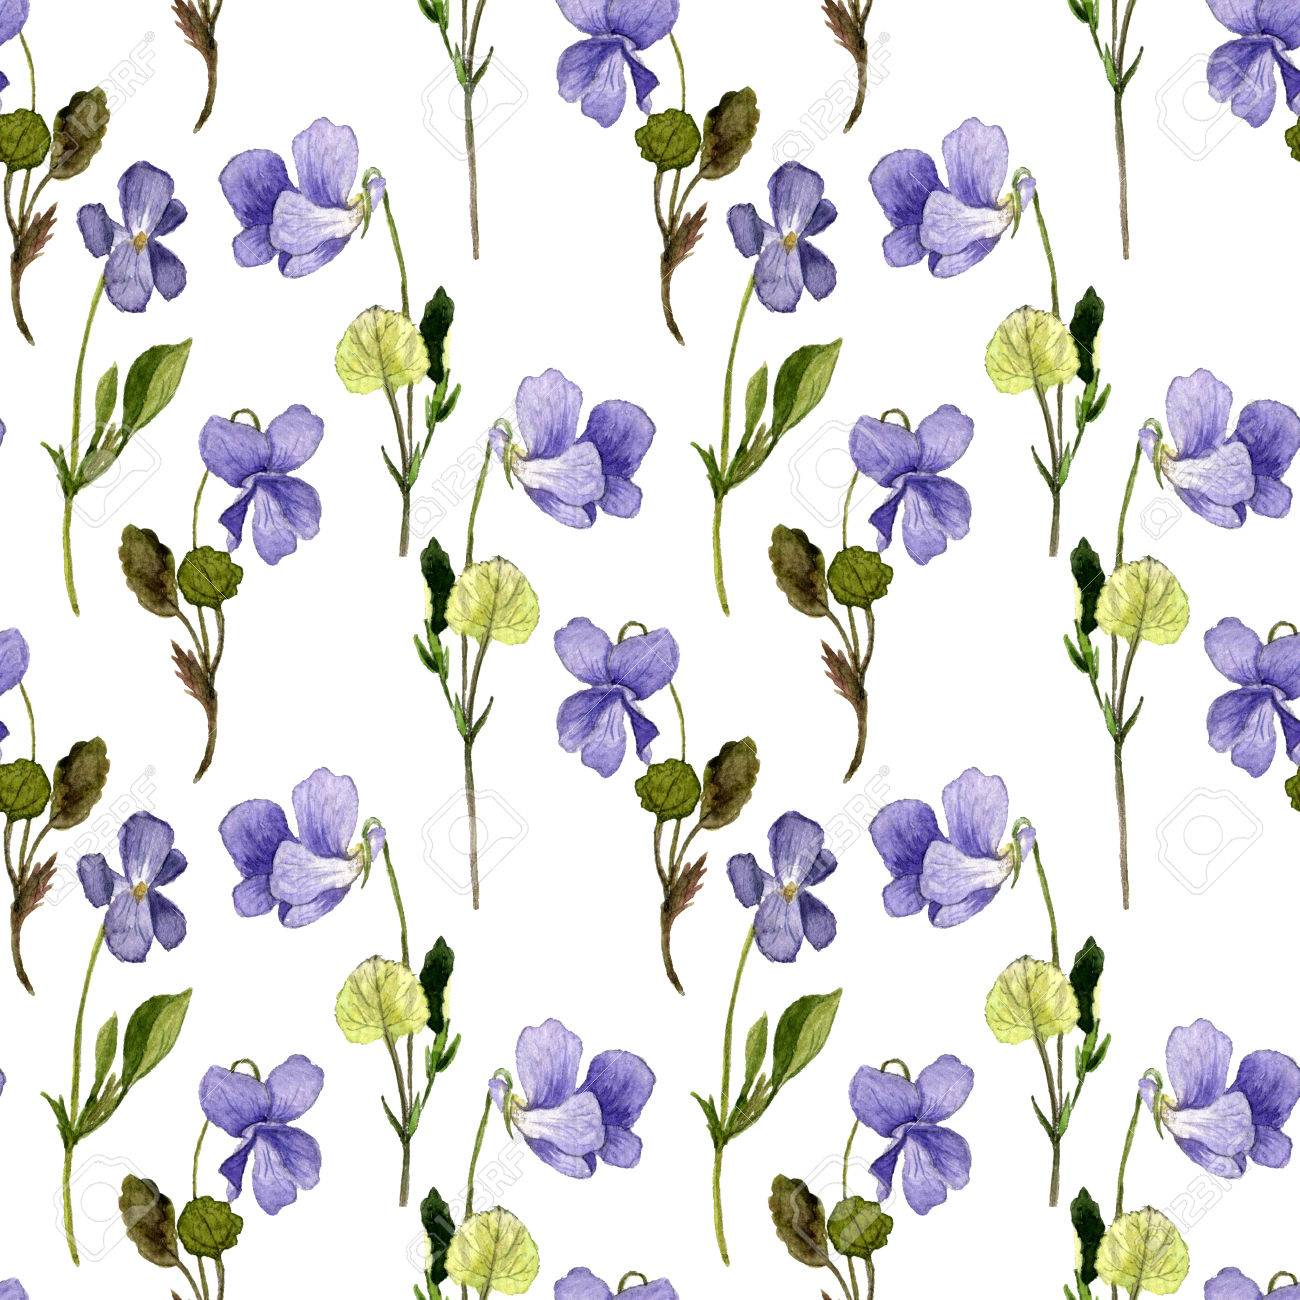violet: (865, 770, 1048, 924), (1129, 379, 1296, 544), (487, 385, 661, 537), (1143, 1024, 1300, 1190), (713, 170, 865, 337), (58, 821, 215, 975), (190, 1058, 335, 1223), (533, 594, 671, 761), (198, 151, 385, 273), (874, 126, 1033, 263), (213, 787, 400, 904), (719, 799, 845, 971), (74, 182, 214, 337), (495, 1046, 654, 1183), (843, 1060, 985, 1208), (1195, 600, 1300, 780), (199, 411, 319, 563), (533, 1, 686, 121)
